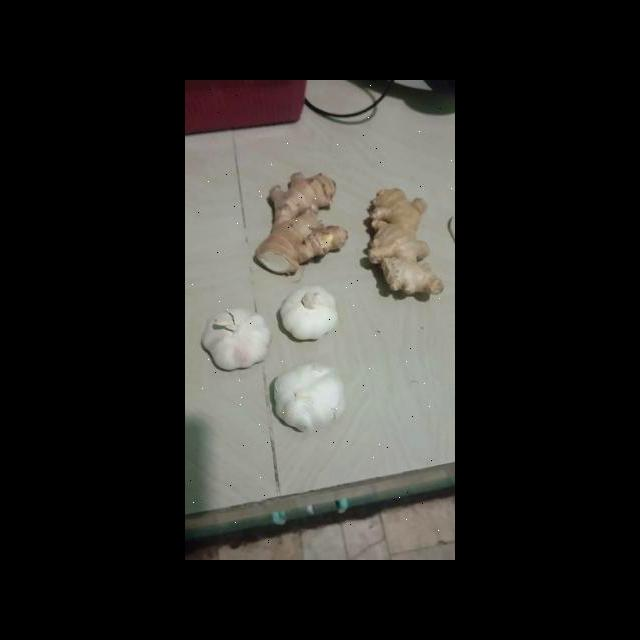garlic: (272, 359, 343, 432), (205, 306, 275, 373), (275, 285, 337, 342)
ginger: (257, 168, 357, 281), (362, 188, 445, 303)
